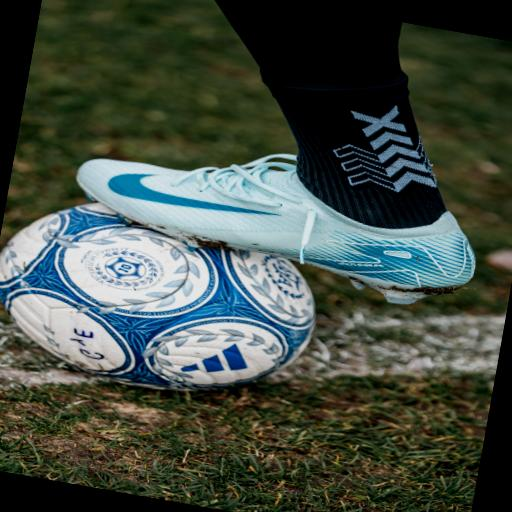shoe: (76, 154, 474, 304)
